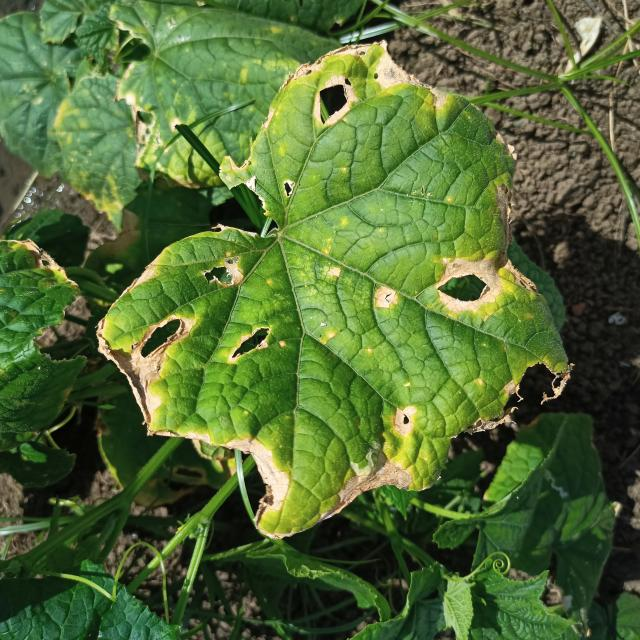disease_cucumber: (95, 38, 572, 543)
